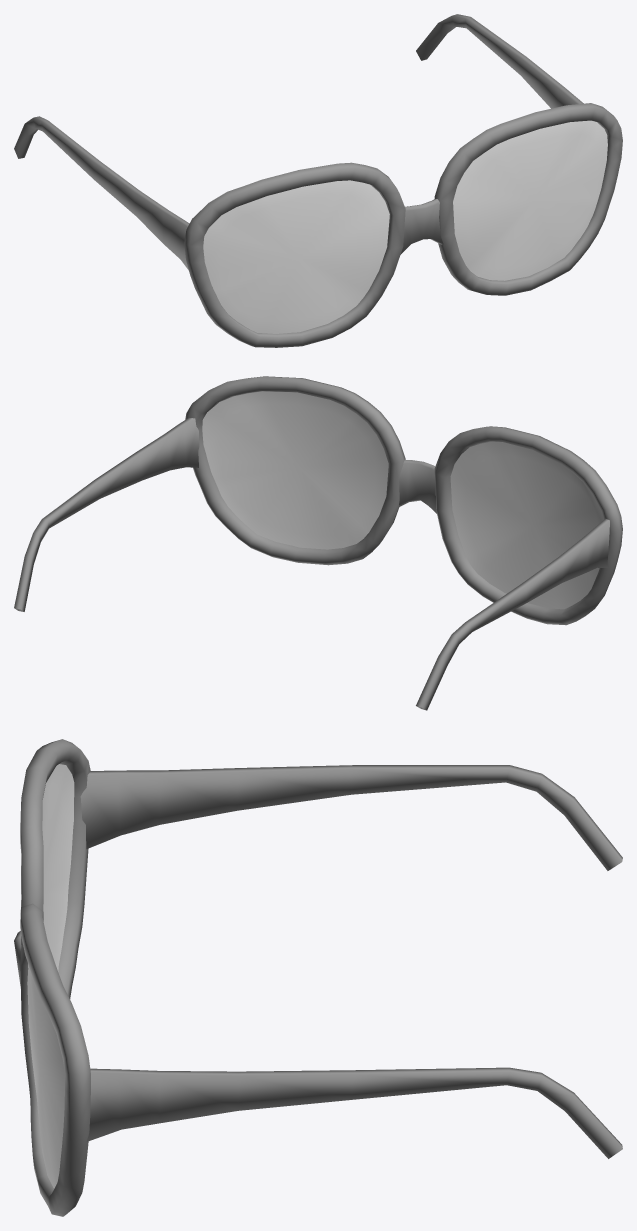
Rendered from _headwear_040.fbx.
3 views of the same model, one above another, from view 1: azimuth 30°, elevation 25°; view 2: azimuth 150°, elevation 25°; view 3: azimuth 270°, elevation 25° (orthographic). The views are drawn at different scales.
Visible parts, largest first — view 1: f_headwear_040; view 2: f_headwear_040; view 3: f_headwear_040.
Boxes of the visible parts, x1,y1,x2,y2 form: f_headwear_040: (14, 14, 622, 347); f_headwear_040: (14, 376, 622, 710); f_headwear_040: (14, 739, 622, 1216).
Bounding box in the file's own units: 16.49 × 6.49 × 13.62.
